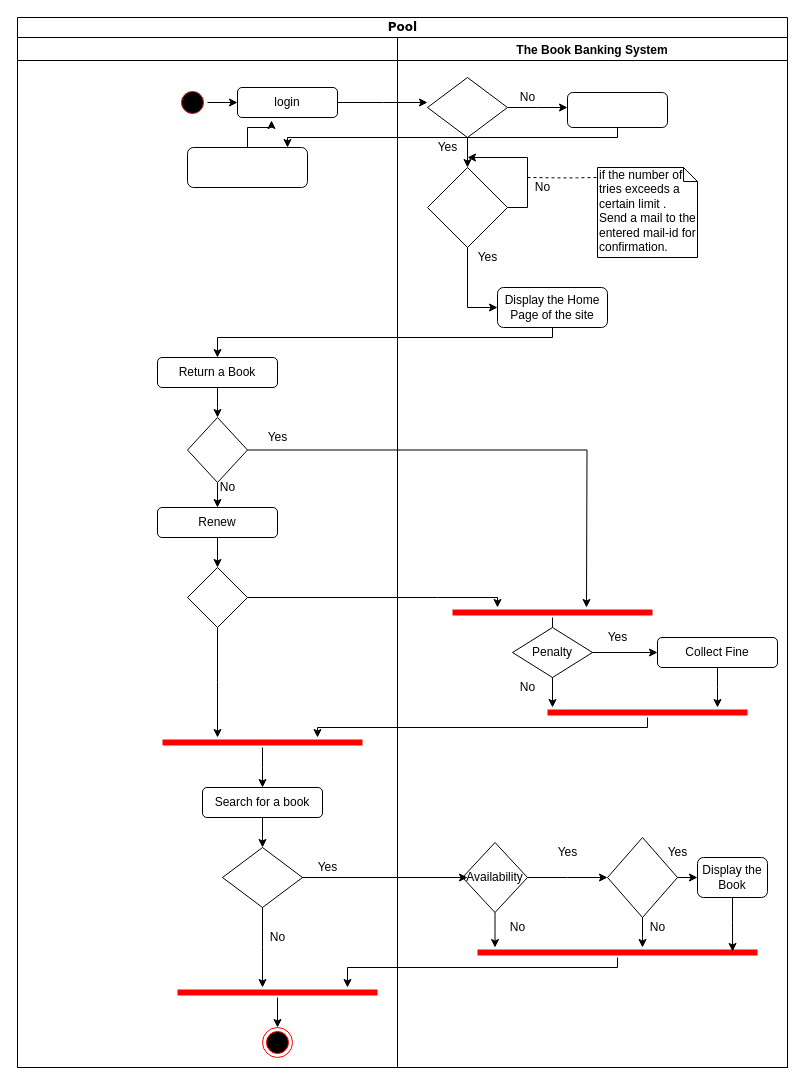
Image size: 805x1085. Some labels were removed from this diagram. Here are the shapes that lost their labels. From the top down, the box of each, then its label:
(426, 76, 508, 138): registered e-mail
(566, 92, 668, 128): Display the sign up page
(186, 146, 308, 188): Enter sign up details
(426, 166, 508, 248): correct password
(16, 36, 398, 1068): User
(606, 836, 678, 918): Check the limit
